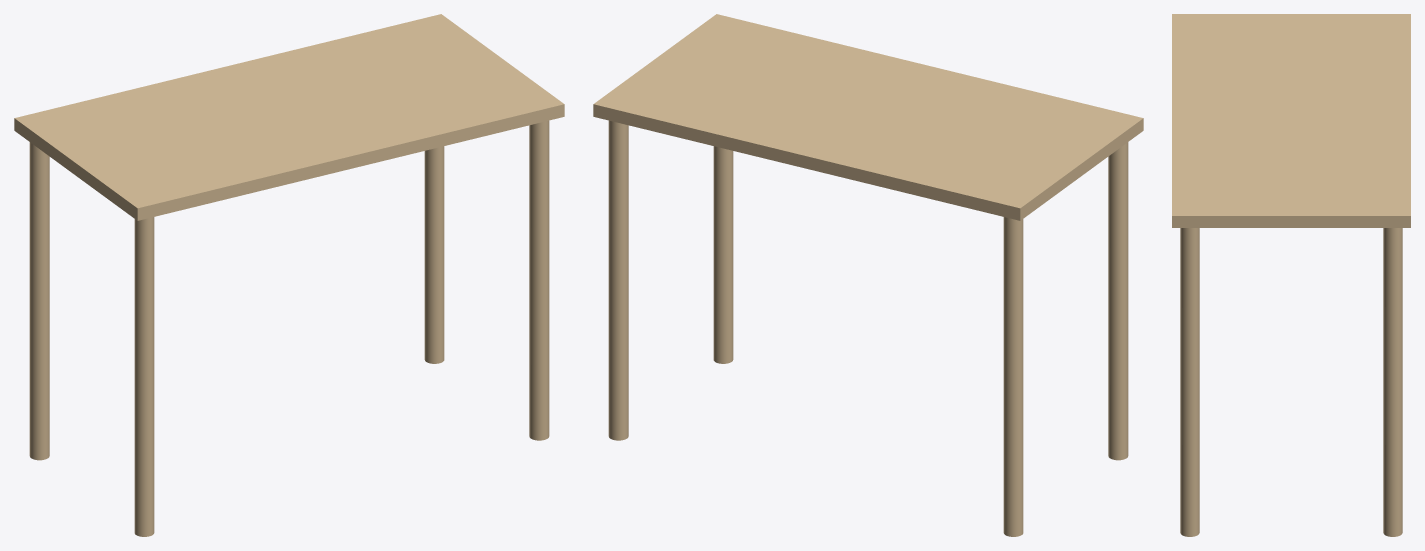
Rendered from ikea-bekant-20486208-g2-proxy.glb.
3 views of the same model, side by side, from view 1: azimuth 30°, elevation 25°; view 2: azimuth 150°, elevation 25°; view 3: azimuth 270°, elevation 25° (orthographic). The views are drawn at different scales.
Parts seen in each view (by area): view 1: proxy_body, leg (×4); view 2: proxy_body, leg (×4); view 3: proxy_body, leg (×2).
Part boxes in pixels (left/top/right/bottom): proxy_body: left=14, top=14, right=564, bottom=220; leg (×4): left=29, top=120, right=549, bottom=536; proxy_body: left=593, top=14, right=1143, bottom=220; leg (×4): left=608, top=120, right=1128, bottom=536; proxy_body: left=1172, top=14, right=1410, bottom=227; leg (×2): left=1180, top=228, right=1402, bottom=536.
Bounding box in the file's own units: 1.6 × 1.2 × 0.8.
